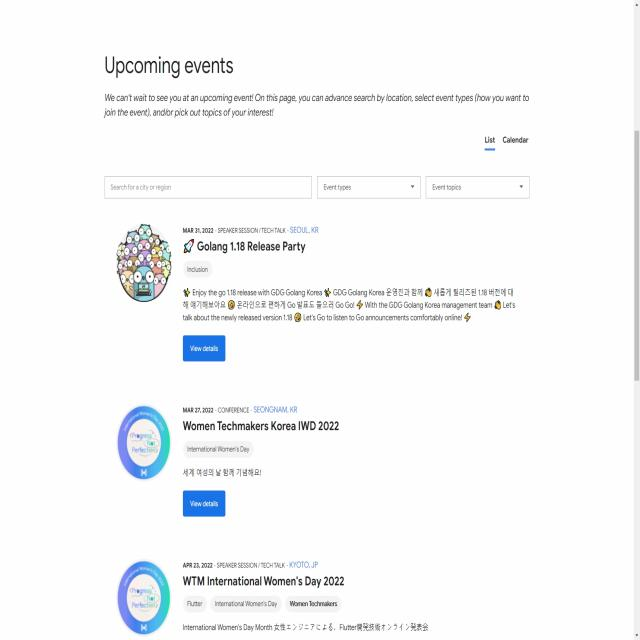search: (103, 171, 532, 203)
